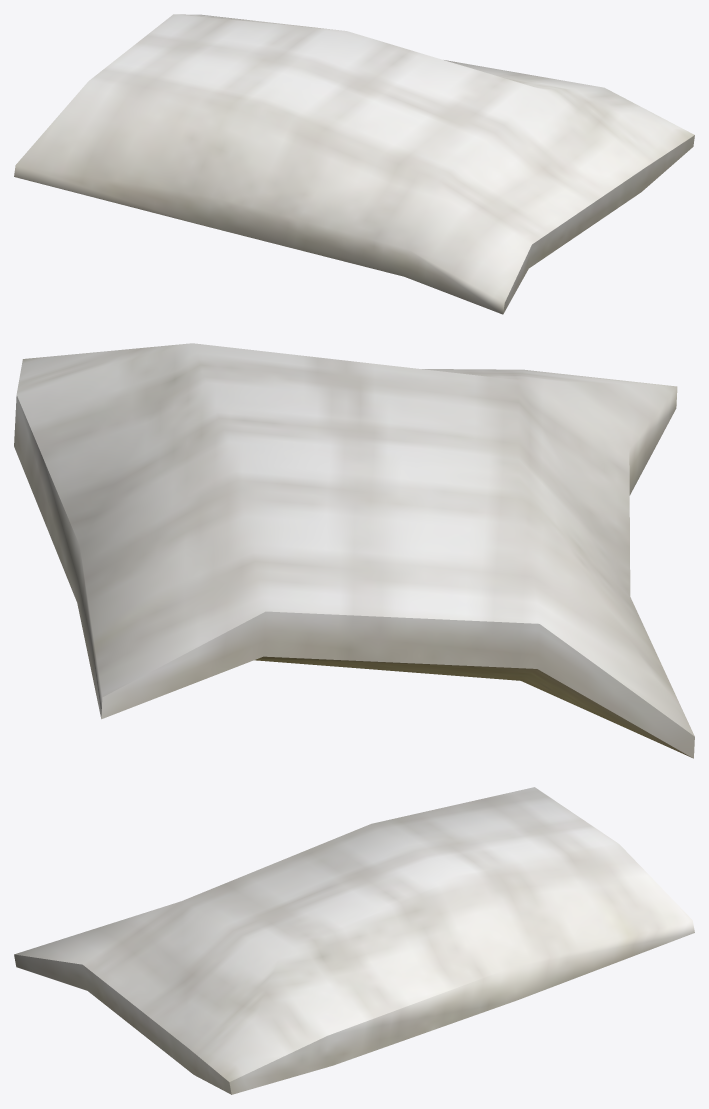
The model's file is ShenMiRenJia_01_baozhen_01.FBX.
The picture shows the model from 3 angles, top to bottom: view 1: azimuth 30°, elevation 25°; view 2: azimuth 150°, elevation 25°; view 3: azimuth 270°, elevation 25°; orthographic projection. The views are drawn at different scales.
Visible parts, largest first — view 1: ShenMiRenJia_01_baozhen_01; view 2: ShenMiRenJia_01_baozhen_01; view 3: ShenMiRenJia_01_baozhen_01.
Boxes of the visible parts, x1,y1,x2,y2 form: ShenMiRenJia_01_baozhen_01: [14, 14, 694, 314]; ShenMiRenJia_01_baozhen_01: [14, 343, 694, 758]; ShenMiRenJia_01_baozhen_01: [14, 787, 694, 1094].
Bounding box in the file's own units: 308 × 64.25 × 320.
